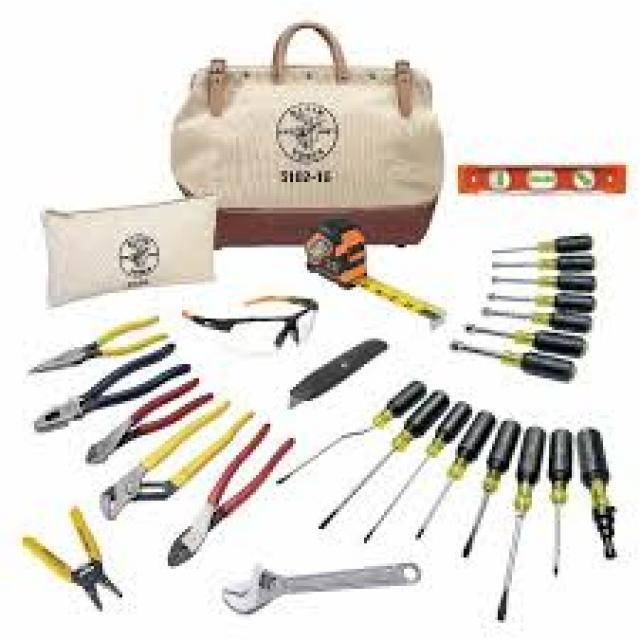screwdriver: (313, 382, 458, 530), (357, 394, 474, 545), (407, 407, 498, 540), (454, 412, 524, 564), (494, 422, 544, 628), (544, 419, 576, 582)
